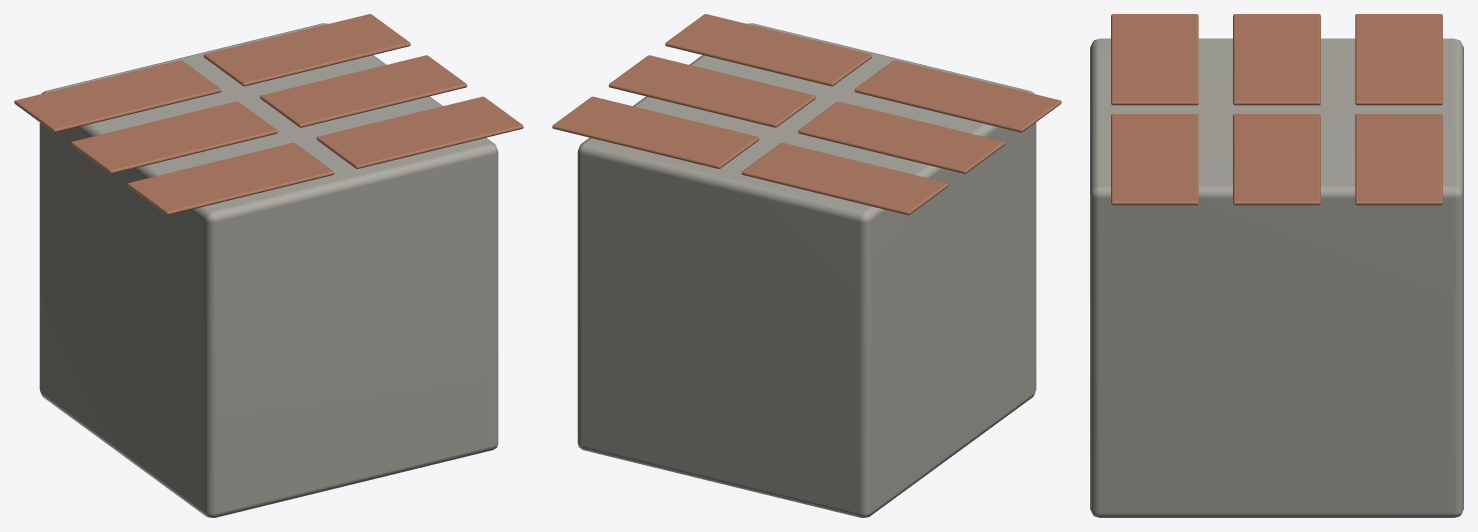
Rendered from Brick.glb.
3 renders of one model, left to right at view 1: azimuth 30°, elevation 25°; view 2: azimuth 150°, elevation 25°; view 3: azimuth 270°, elevation 25°, orthographic. The views are drawn at different scales.
Visible parts, largest first — view 1: solid wall.001, brick course, brick course.001, brick course.002, brick course.004, brick course.005, brick course.003; view 2: solid wall.001, brick course, brick course.001, brick course.002, brick course.004, brick course.005, brick course.003; view 3: solid wall.001, brick course.002, brick course, brick course.001, brick course.003, brick course.004, brick course.005.
Boxes of the visible parts, x1,y1,x2,y2 form: solid wall.001: [39, 23, 498, 517]; brick course: [127, 142, 334, 215]; brick course.001: [316, 96, 523, 168]; brick course.002: [70, 101, 277, 173]; brick course.004: [14, 60, 221, 132]; brick course.005: [203, 14, 410, 86]; brick course.003: [260, 55, 467, 127]; solid wall.001: [577, 23, 1036, 517]; brick course: [854, 60, 1061, 132]; brick course.001: [665, 14, 872, 86]; brick course.002: [798, 101, 1005, 173]; brick course.004: [741, 142, 948, 215]; brick course.005: [552, 96, 759, 168]; brick course.003: [608, 55, 815, 127]; solid wall.001: [1090, 38, 1463, 517]; brick course.002: [1233, 14, 1320, 105]; brick course: [1111, 14, 1198, 105]; brick course.001: [1111, 114, 1198, 205]; brick course.003: [1233, 114, 1320, 205]; brick course.004: [1355, 14, 1442, 105]; brick course.005: [1355, 114, 1442, 205].
Bounding box in the file's own units: 1.17 × 0.974 × 0.98.
